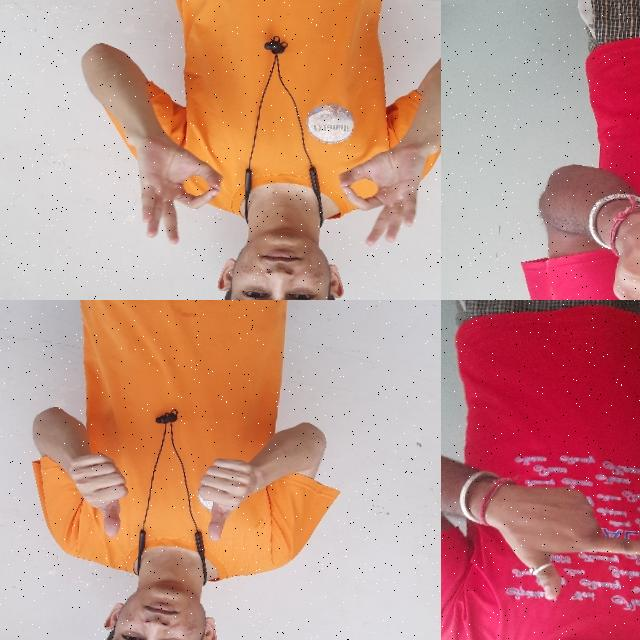Dulya: (603, 199, 640, 300)
Five Fathers: (471, 464, 640, 624)
Okay: (126, 118, 231, 256), (328, 124, 437, 256)
Thumbs Up: (58, 438, 137, 542), (188, 445, 258, 544)
